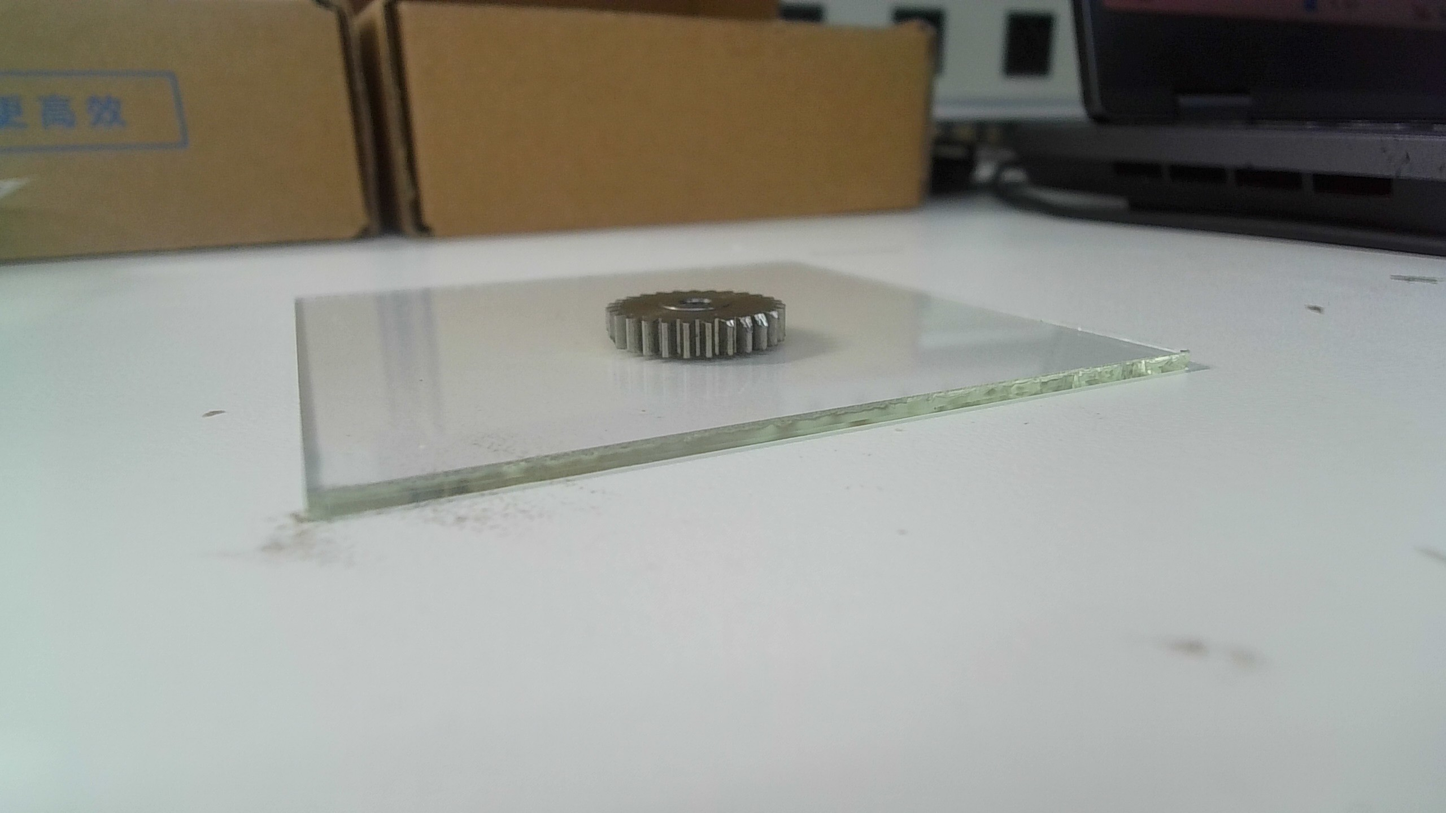gear: (601, 286, 789, 362)
